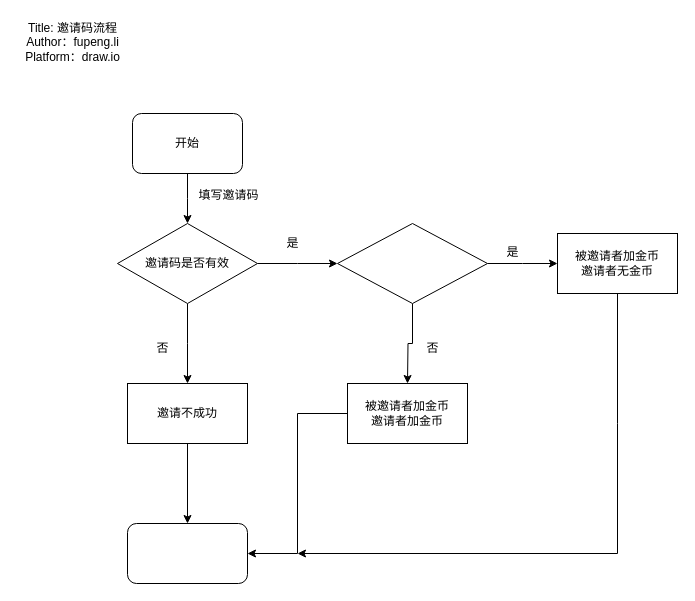
Image size: 695x601. Some labels were removed from this diagram. Here are the shapes that lost their labels. From the top down, the box of each, then its label:
(336, 222, 488, 304): 此码是否达到生命周期 邀请限制10次
(126, 522, 248, 584): 结束
